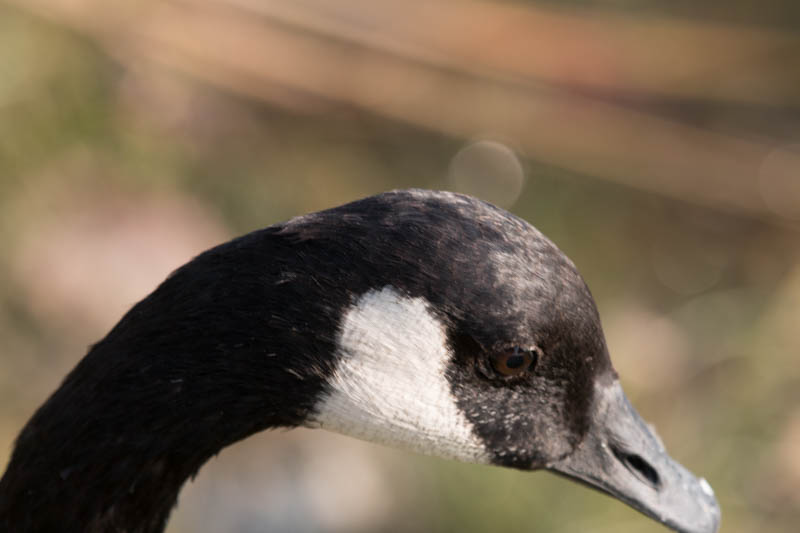goose-head: (269, 189, 720, 533)
